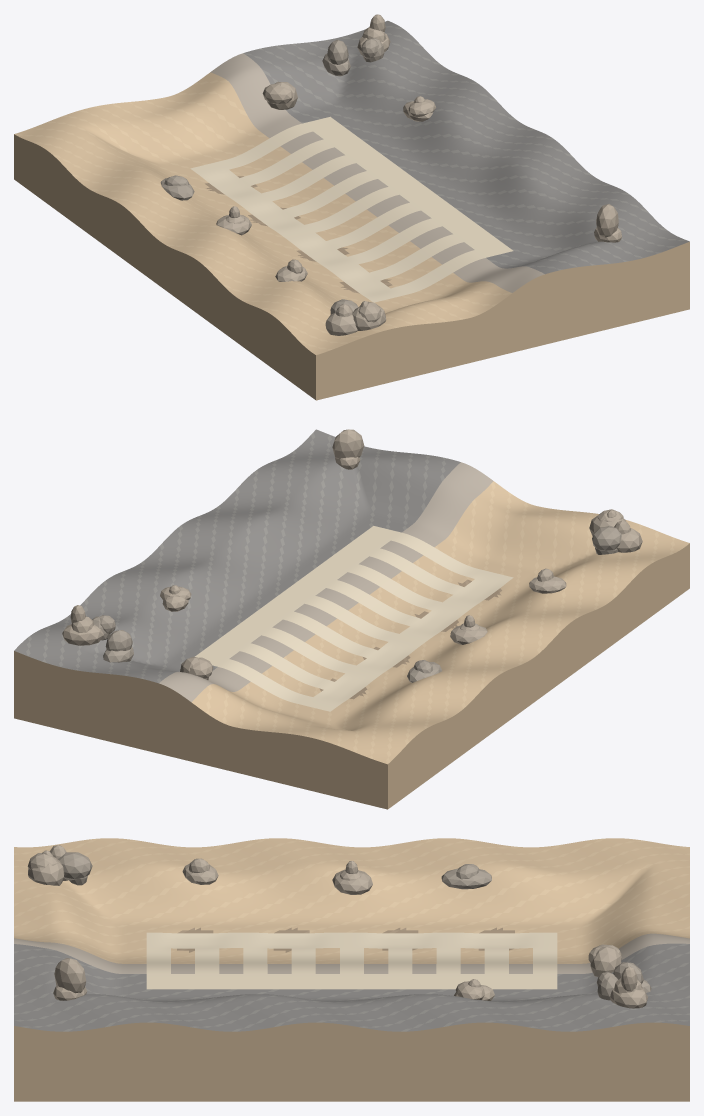
Rendered from sandstone-basin.glb.
3 views of the same model, one above another, from view 1: azimuth 30°, elevation 25°; view 2: azimuth 150°, elevation 25°; view 3: azimuth 270°, elevation 25° (orthographic). The views are drawn at different scales.
Visible parts, largest first — view 1: Terrain, Rock_07, Rock_01, Rock_03, Rock_04, Rock_05, Rock_11, Rock_09, Rock_02, Rock_10; view 2: Terrain, Rock_02, Rock_07, Rock_03, Rock_06, Rock_10, Rock_08, Rock_11, Rock_05; view 3: Terrain, Rock_07, Rock_02, Rock_04, Rock_09, Rock_10, Rock_01, Rock_06, Rock_08, Rock_11, Rock_00.
Part boxes in pixels (x1,y1,x2,y2): Terrain: (14,20,689,400); Rock_07: (594,204,621,242); Rock_01: (262,81,297,109); Rock_03: (322,39,350,76); Rock_04: (352,301,386,330); Rock_05: (325,304,357,335); Rock_11: (403,96,435,121); Rock_09: (160,175,194,200); Rock_02: (357,14,390,55); Rock_10: (216,206,251,235); Terrain: (14,429,689,809); Rock_02: (62,605,103,645); Rock_07: (332,429,364,469); Rock_03: (103,630,133,662); Rock_06: (592,525,621,554); Rock_10: (450,615,487,644); Rock_08: (529,568,566,593); Rock_11: (160,585,191,611); Rock_05: (614,520,642,552); Terrain: (14,838,689,1101); Rock_07: (53,958,86,1000); Rock_02: (610,966,647,1008); Rock_04: (27,850,64,885); Rock_09: (441,864,491,889); Rock_10: (332,861,372,894); Rock_01: (588,944,621,976); Rock_06: (58,852,92,885); Rock_08: (182,858,218,884); Rock_11: (454,979,494,1000); Rock_00: (596,971,617,1000).
Size of the model in its own units: 20 by 5.25 by 28.
